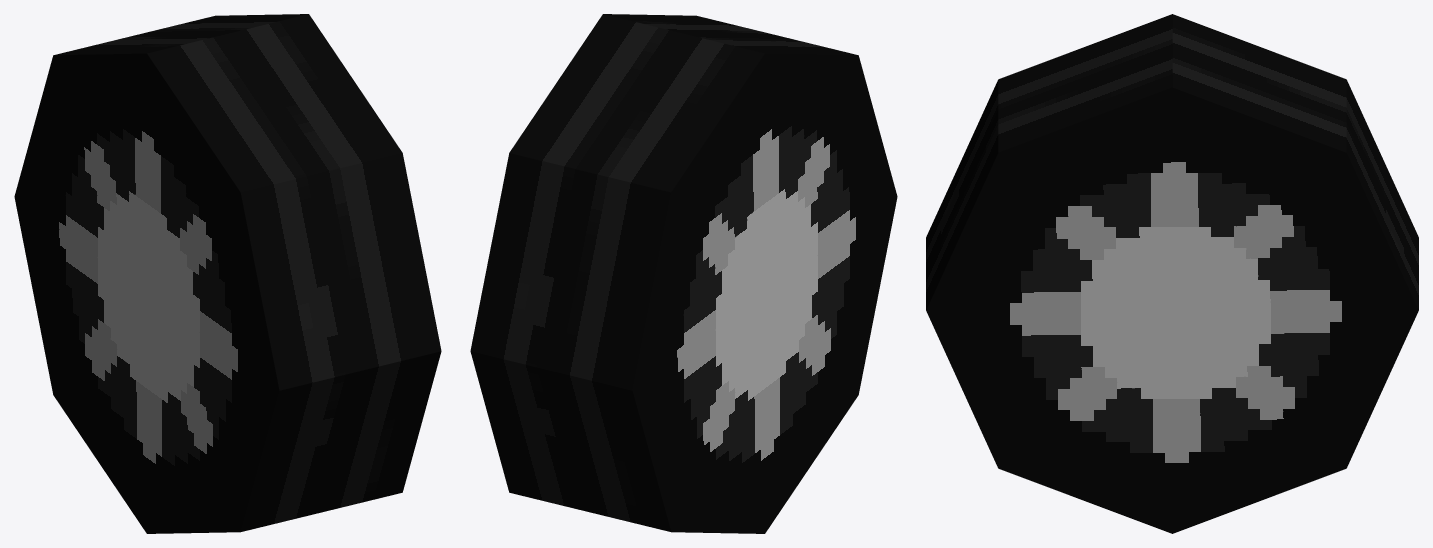
The model's file is Acty_Wheel.fbx.
The picture shows the model from 3 angles, left to right: view 1: azimuth 30°, elevation 25°; view 2: azimuth 150°, elevation 25°; view 3: azimuth 270°, elevation 25°; orthographic projection. The views are drawn at different scales.
Parts seen in each view (by area): view 1: Wheel; view 2: Wheel; view 3: Wheel.
Part boxes in pixels (left/top/right/bottom): Wheel: left=14, top=14, right=441, bottom=533; Wheel: left=470, top=14, right=897, bottom=533; Wheel: left=926, top=14, right=1418, bottom=533.
Size of the model in its own units: 0.12 by 0.34 by 0.34.
1 material, 1 textured.
